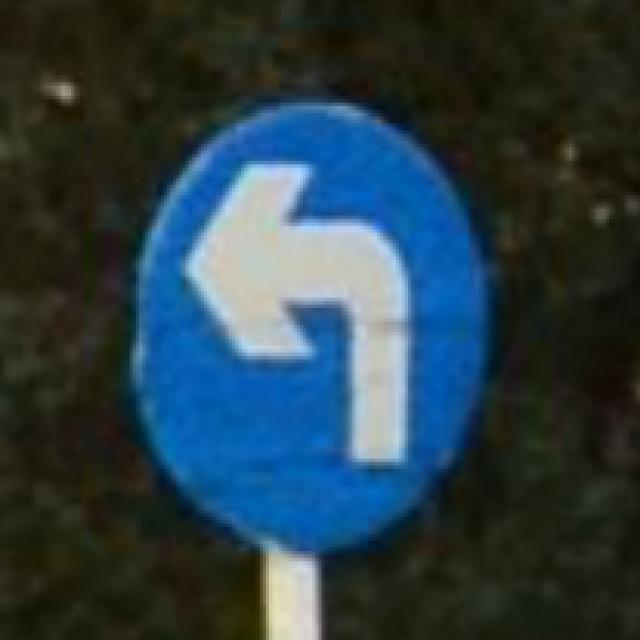left: (128, 93, 476, 537)
